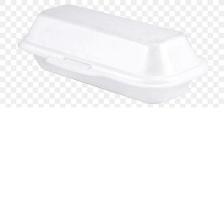foam_box: (11, 0, 215, 108)
